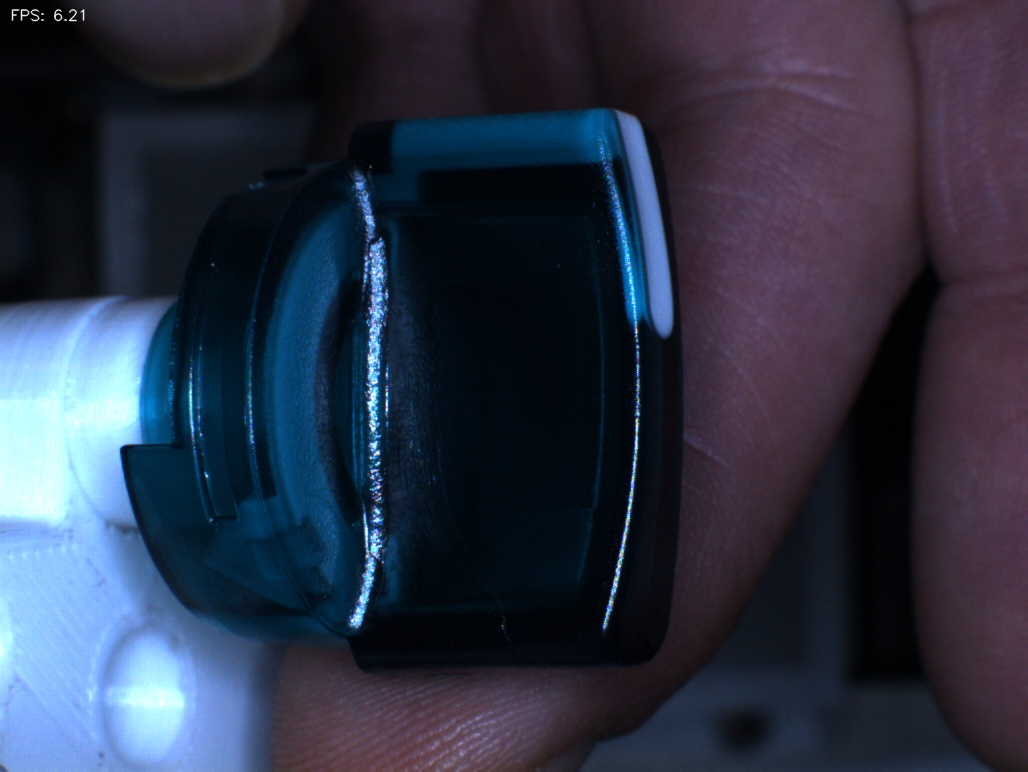Givrage: (387, 402, 534, 651)
